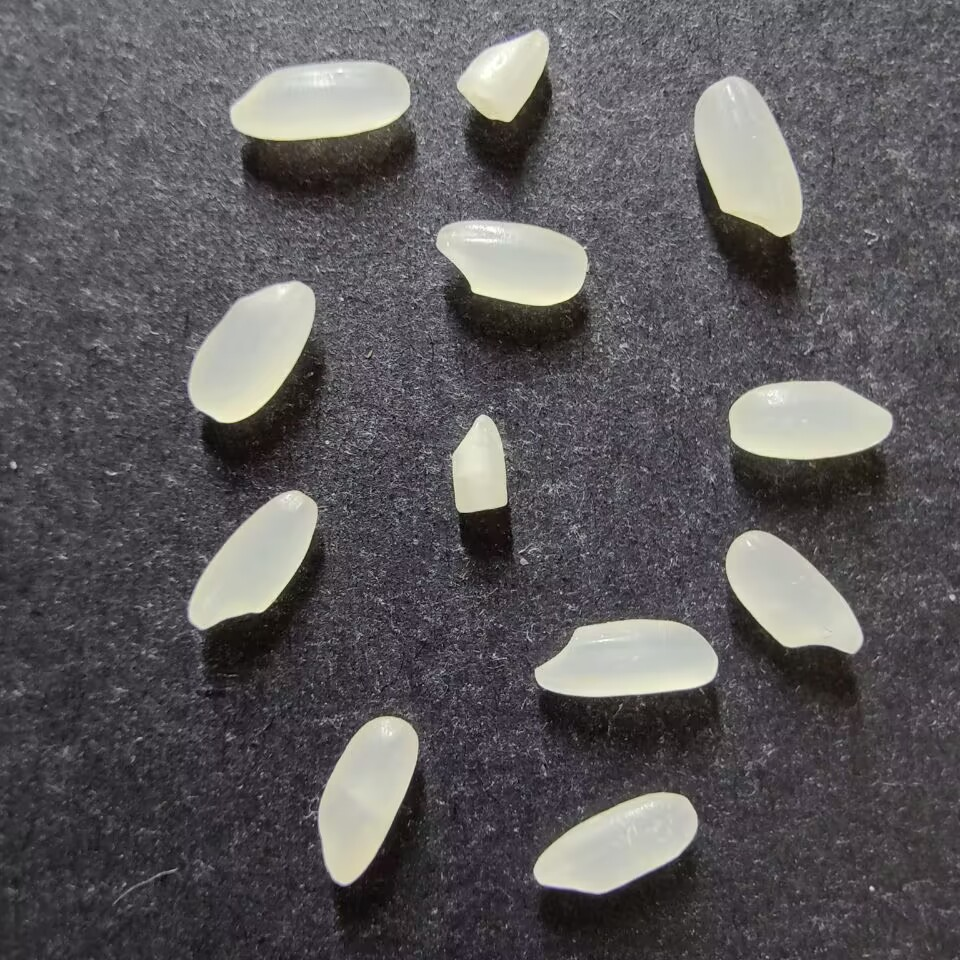broken: (455, 29, 550, 122), (450, 413, 508, 514)
rice: (187, 488, 318, 630), (187, 280, 316, 423), (692, 75, 803, 238), (724, 529, 864, 655), (316, 715, 419, 886), (532, 791, 697, 895), (533, 618, 718, 697), (229, 60, 411, 140), (727, 379, 894, 460), (434, 219, 586, 305)
